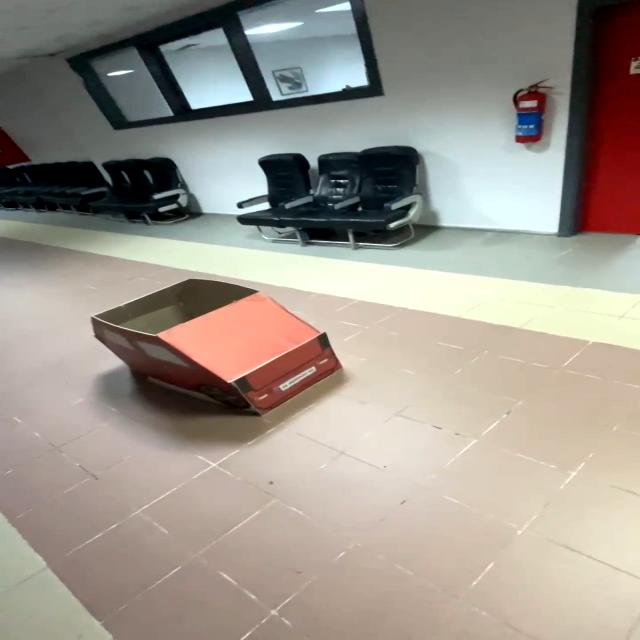red_car: (57, 268, 393, 443)
